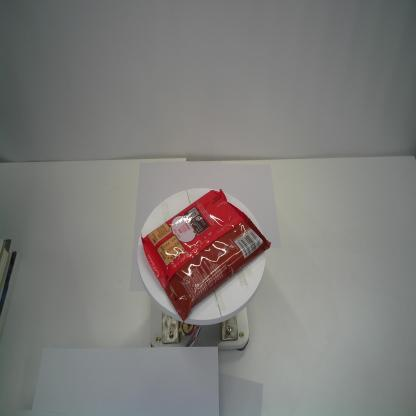Dessert: (140, 187, 272, 323)
